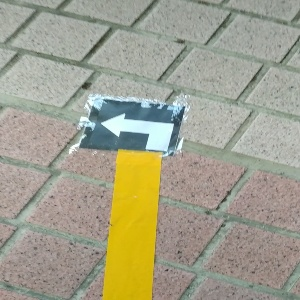left: (78, 97, 187, 155)
